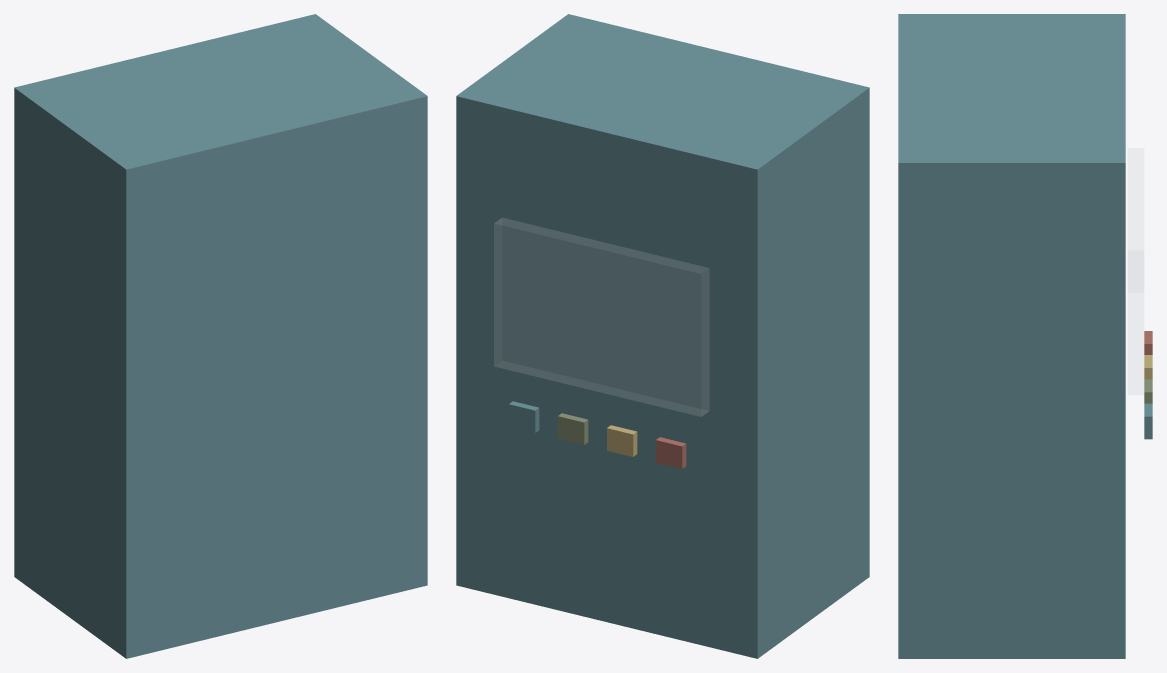
File: iz2_mission_project_model.glb
3 renders of one model, left to right at view 1: azimuth 30°, elevation 25°; view 2: azimuth 150°, elevation 25°; view 3: azimuth 270°, elevation 25°, orthographic.
Visible parts, largest first — view 1: body; view 2: body, screen; view 3: body, screen.
Boxes of the visible parts, x1,y1,x2,y2 form: body: [14, 14, 427, 658]; body: [456, 14, 869, 658]; screen: [494, 218, 709, 416]; body: [898, 14, 1152, 658]; screen: [1128, 148, 1143, 394].
Size of the model in its own units: 0.8298 by 1.29 by 0.5981.
